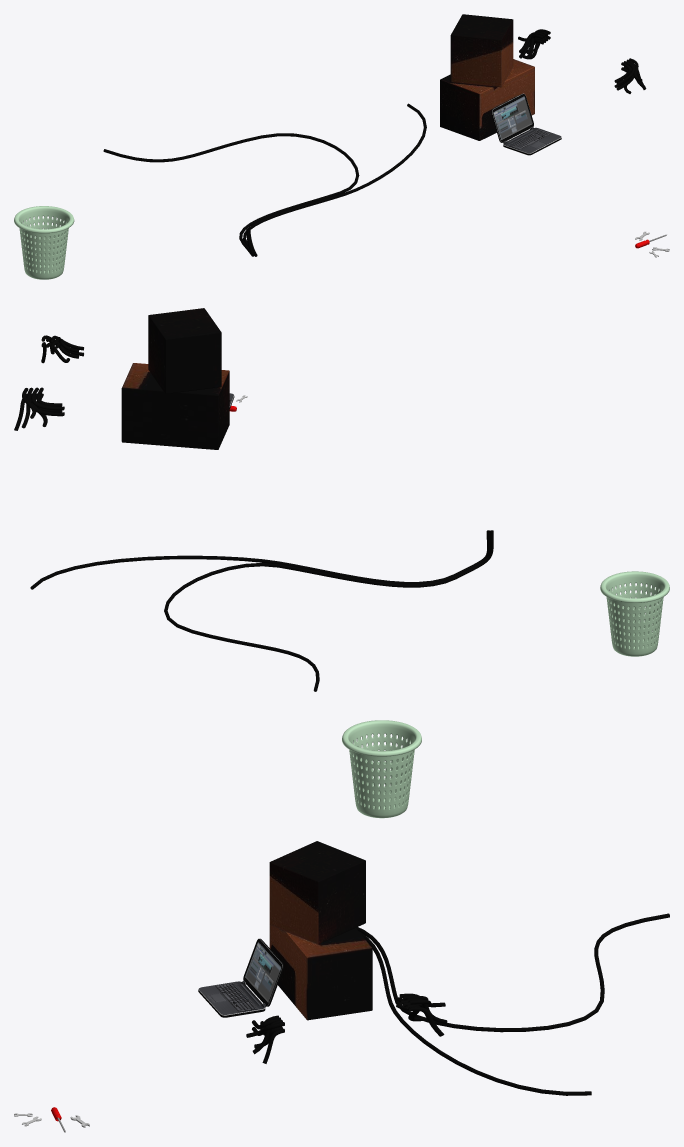
File: details.glb
The picture shows the model from 3 angles, top to bottom: view 1: azimuth 30°, elevation 25°; view 2: azimuth 150°, elevation 25°; view 3: azimuth 270°, elevation 25°; orthographic projection. The views are drawn at different scales.
Parts seen in each view (by area): view 1: Cube.003, Cylinder.008, BézierCurve.001, laptop, BézierCurve; view 2: Cube.003, Cylinder.008, BézierCurve.001, BézierCurve; view 3: Cube.003, Cylinder.008, BézierCurve.001, laptop, BézierCurve.
Boxes of the visible parts, left/top/right/bottom form: Cube.003: left=440, top=14, right=534, bottom=140; Cylinder.008: left=14, top=206, right=74, bottom=279; BézierCurve.001: left=103, top=103, right=426, bottom=256; laptop: left=491, top=93, right=561, bottom=155; BézierCurve: left=518, top=29, right=646, bottom=93; Cube.003: left=121, top=308, right=229, bottom=449; Cylinder.008: left=600, top=571, right=669, bottom=656; BézierCurve.001: left=30, top=530, right=493, bottom=691; BézierCurve: left=14, top=335, right=83, bottom=430; Cube.003: left=269, top=841, right=372, bottom=1020; Cylinder.008: left=342, top=720, right=421, bottom=818; BézierCurve.001: left=356, top=913, right=669, bottom=1095; laptop: left=198, top=938, right=283, bottom=1017; BézierCurve: left=246, top=993, right=447, bottom=1063.
Size of the model in its own units: 4.36 by 1.16 by 3.19.
12 materials, 4 textured.
